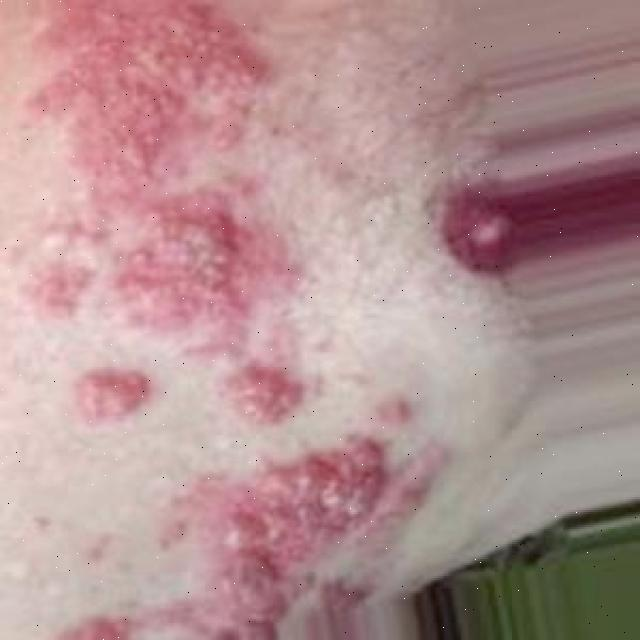Shingles: (22, 0, 304, 424), (37, 434, 446, 640)
